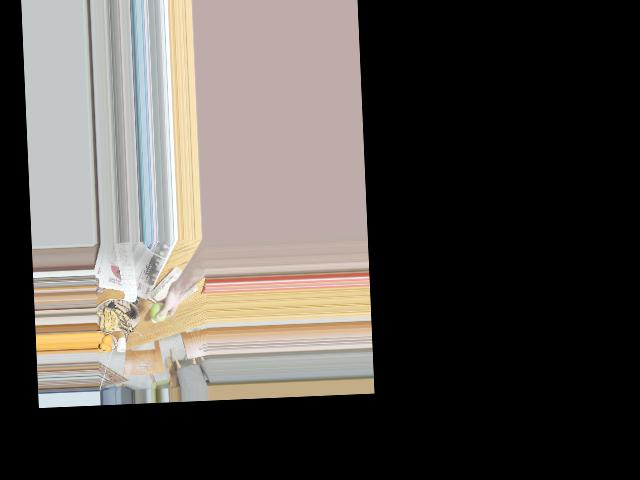apple: (149, 301, 168, 322)
